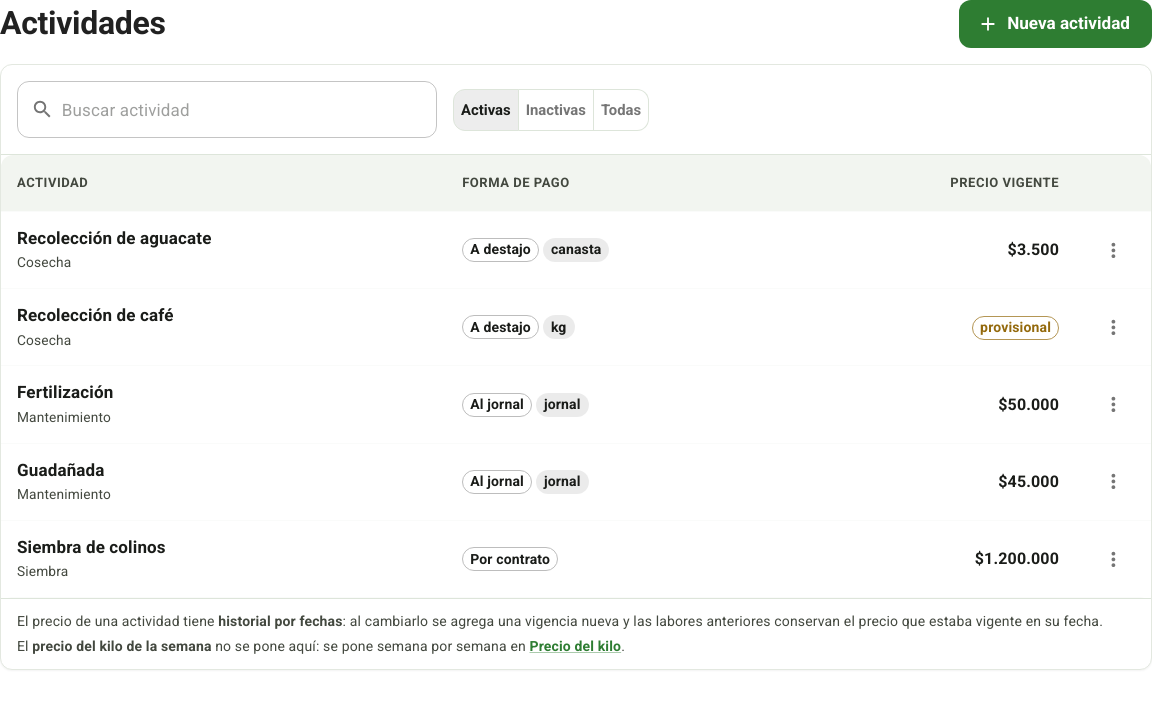
it: the activities list › opens the row in the edit dialog from the menu, and closes it untouched
The image size is (1152, 720).
Click the button named "Acciones de Recolección de café": (1113,327) [1091,305,1135,349]
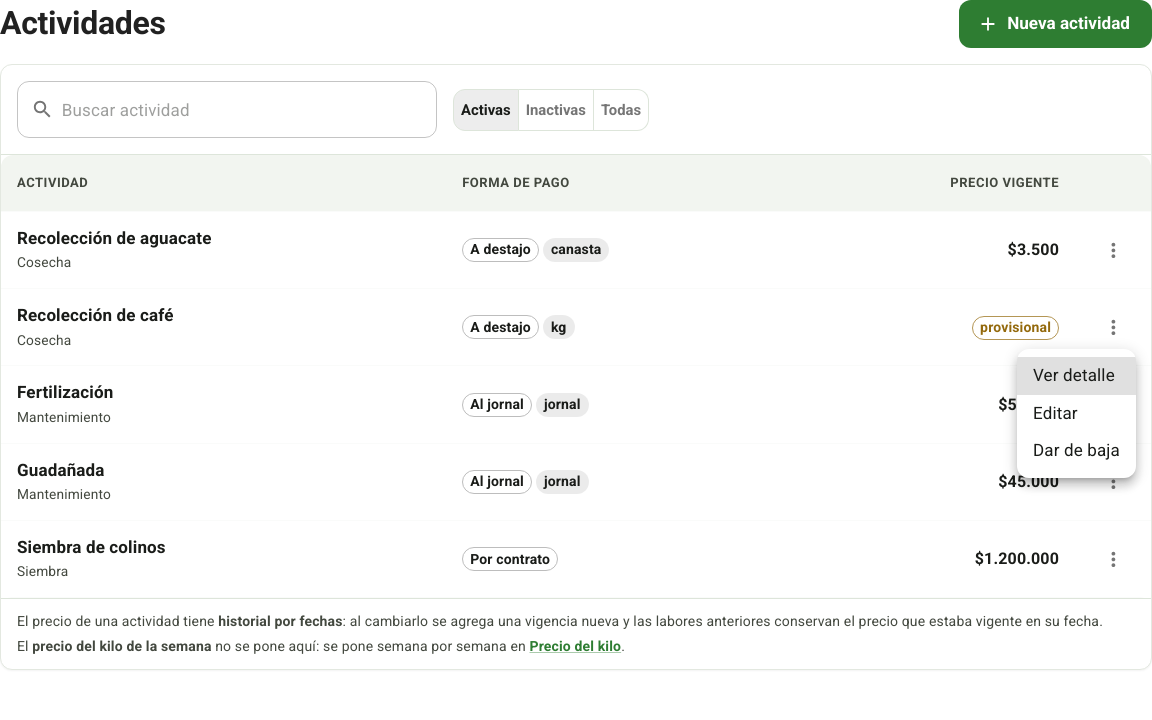
Click the menu item "Editar": (1055,412) [1033,402,1078,422]
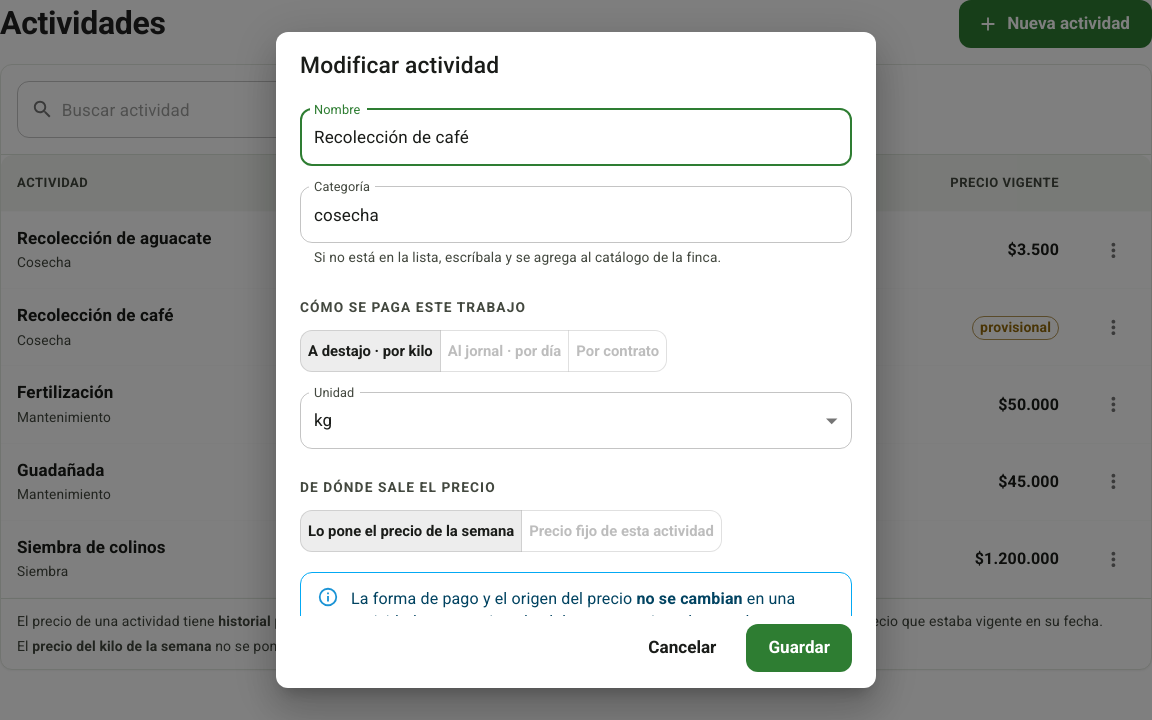
Click the button "Cancelar": (682,648) [626,624,738,672]
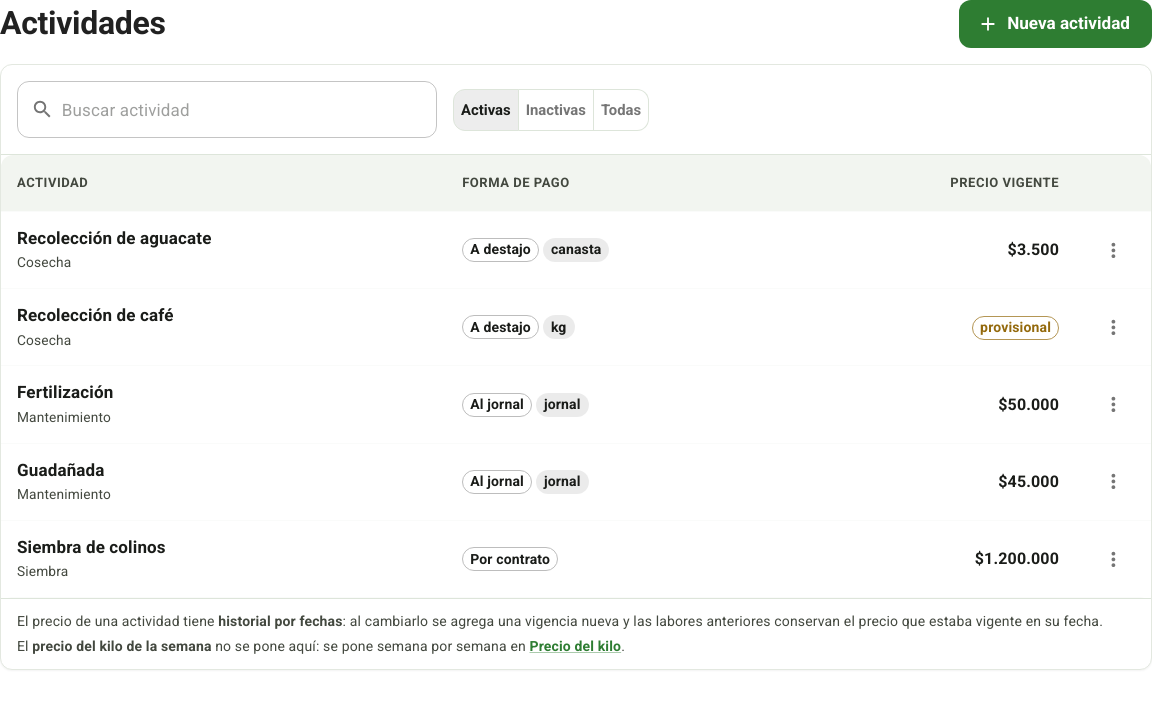
Check: the text "Recolección de café" is shown, box [17,305,174,325]
Check: the dialog is gone
